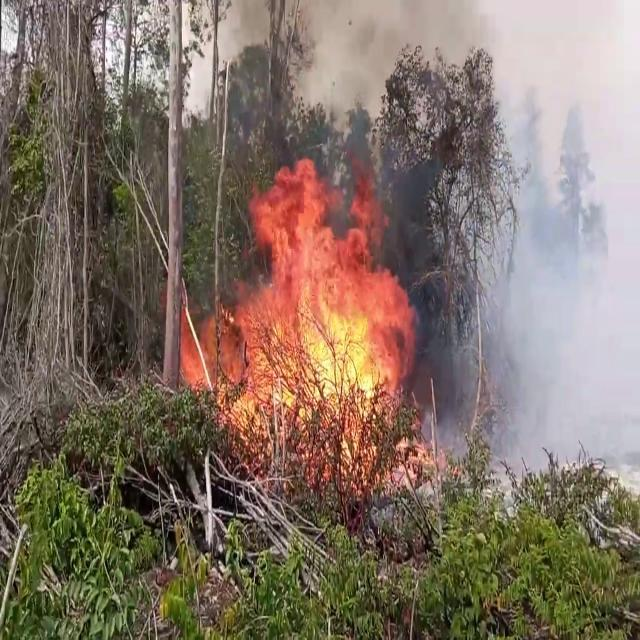Fire: (172, 160, 420, 454)
Smoke: (418, 1, 640, 498)
